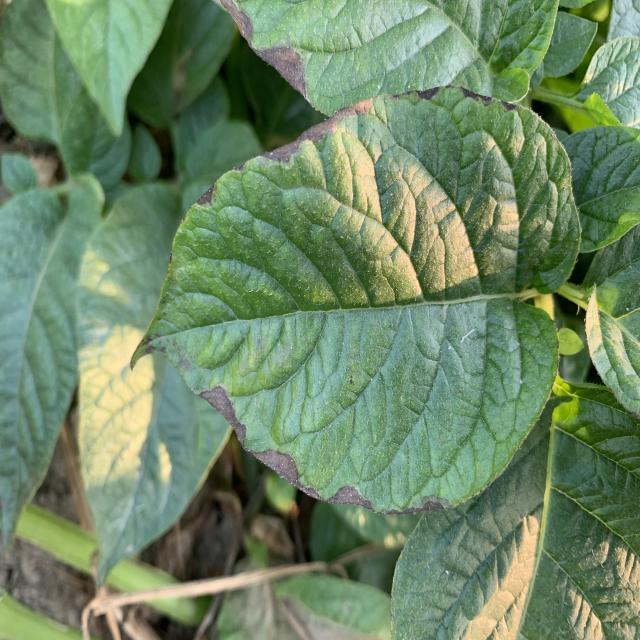lateblight: (220, 0, 306, 97), (265, 100, 394, 163), (252, 448, 371, 507), (200, 385, 246, 447), (198, 185, 215, 205)
